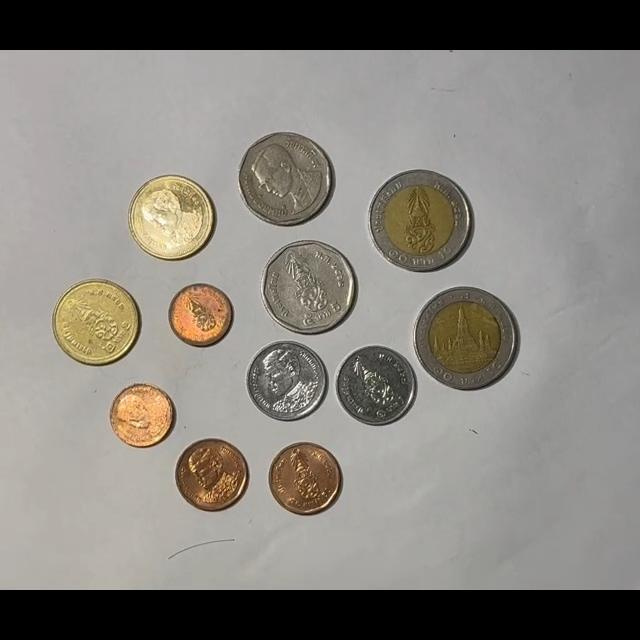1-baht: (335, 345, 417, 426), (245, 340, 327, 421)
10-baht: (413, 286, 518, 390), (367, 169, 472, 272)
2-baht: (52, 278, 140, 366), (128, 174, 215, 261)
25-satang: (110, 383, 176, 448), (169, 283, 234, 348)
5-baht: (261, 240, 357, 336), (237, 131, 334, 226)
50-satang: (175, 439, 249, 512), (268, 442, 342, 515)
